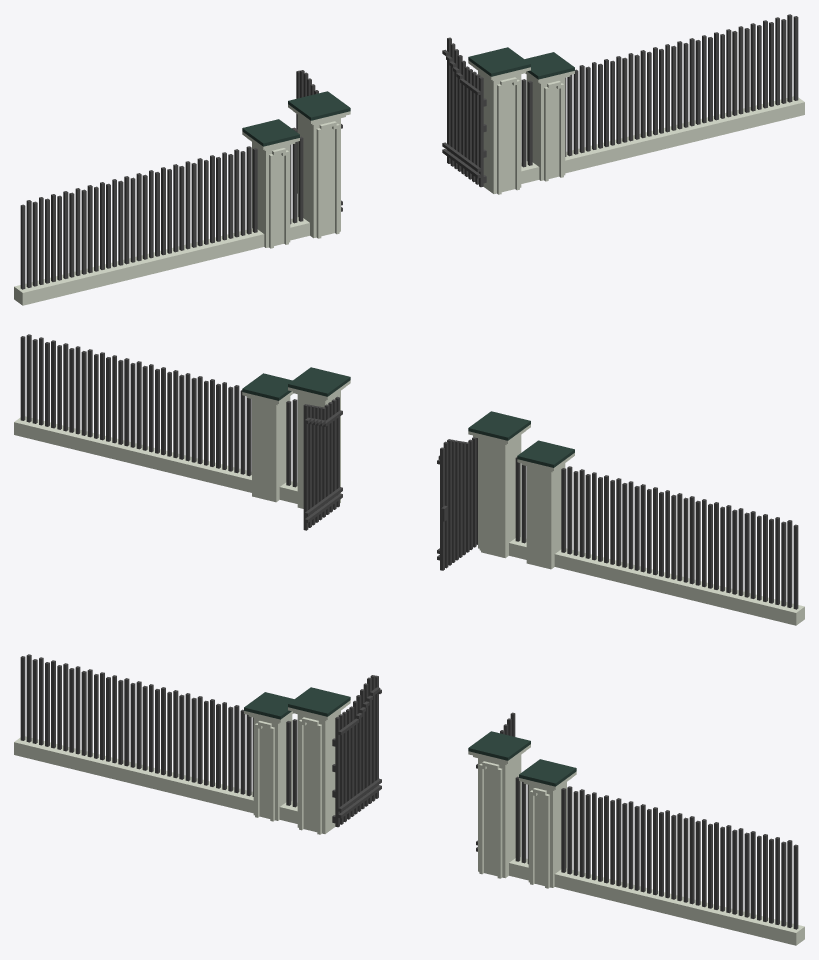
Rendered from gate_front.obj.
3 views of the same model, one above another, from view 1: azimuth 30°, elevation 25°; view 2: azimuth 150°, elevation 25°; view 3: azimuth 330°, elevation 25° (orthographic).
Bounding box in the file's own units: 25.6 × 4 × 3.
Materials: 1 (1 with a texture image).
